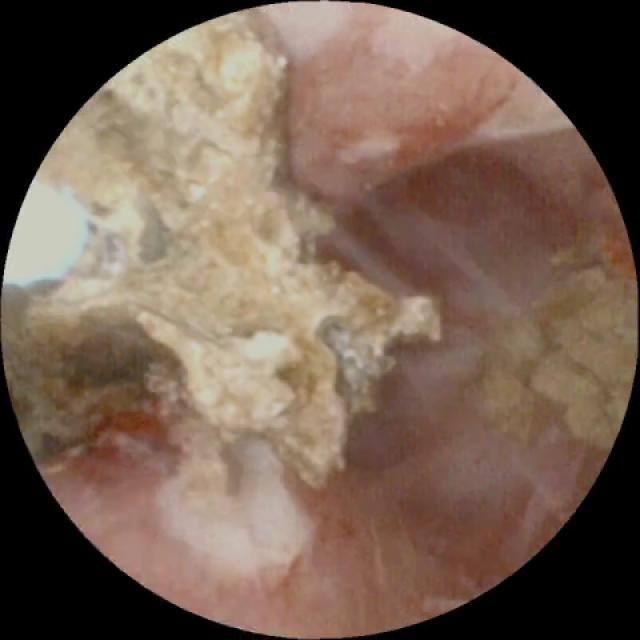stone: (12, 16, 442, 516), (467, 245, 631, 446)
